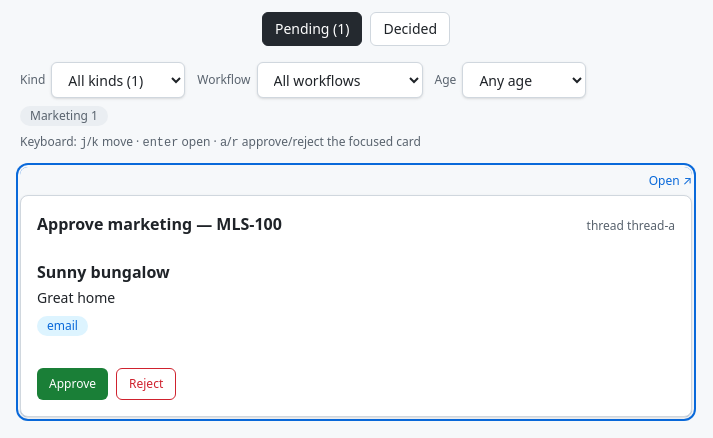
it: Decided-history view (BOP-028) › switches to the decided tab and lists approved/rejected with who and status
Expected: the text "Approve marketing — MLS-100" is shown, x1=37 y1=212 x2=282 y2=236
Click the button "Decided" at (410, 29), box x1=370 y1=12 x2=450 y2=46
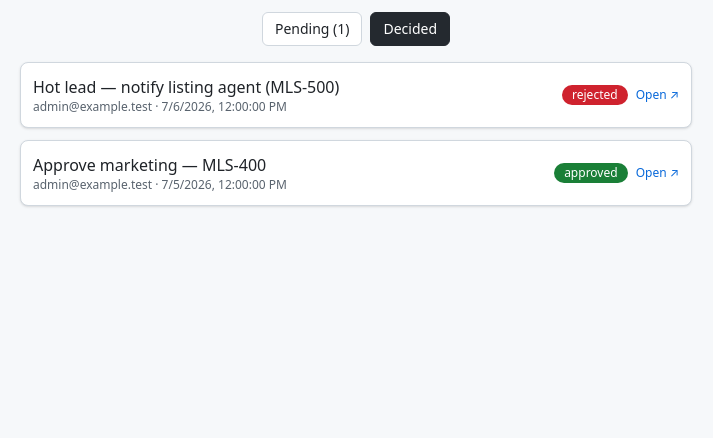
Now the text "Approve marketing — MLS-400" is shown, box x1=33 y1=153 x2=287 y2=177
Now the text "Hot lead — notify listing agent (MLS-500)" is shown, box x1=33 y1=75 x2=339 y2=99
Now the text "admin@example.test · 7/6/2026, 12:00:00 PM" is shown, box x1=33 y1=98 x2=287 y2=115
